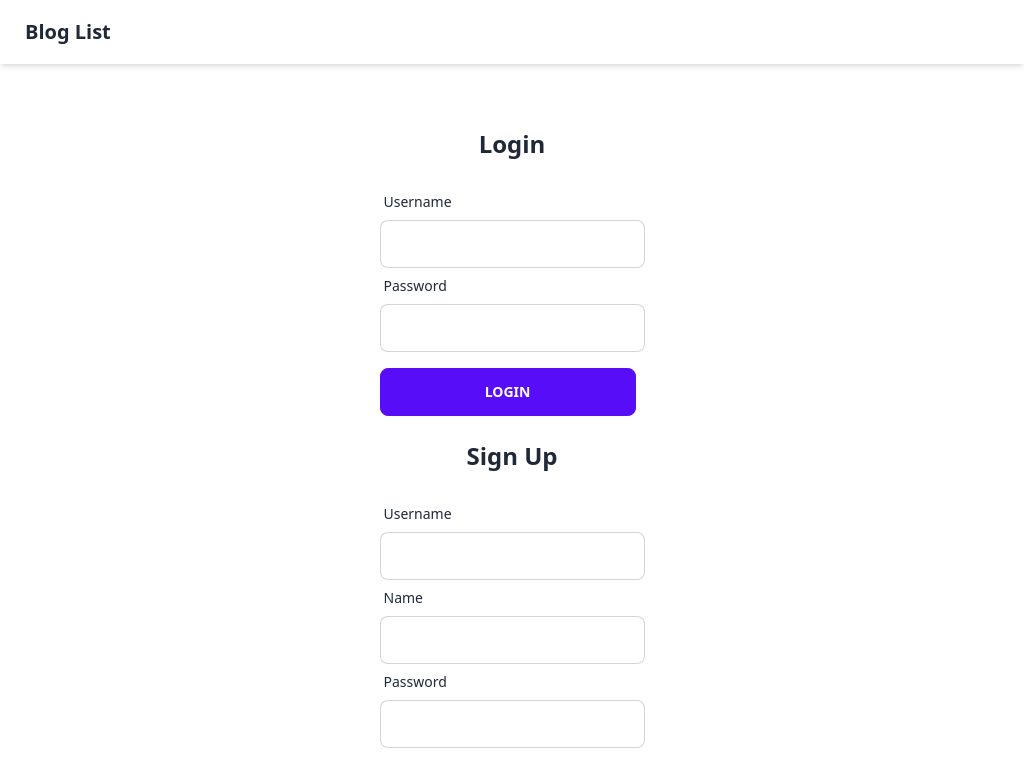
it: Blog app › fails with wrong credentials
This screenshot has width=1024, height=757.
Step 1. Type "happi892" into the field with id "username" → {"x": 513, "y": 244}, box [380, 220, 645, 268]
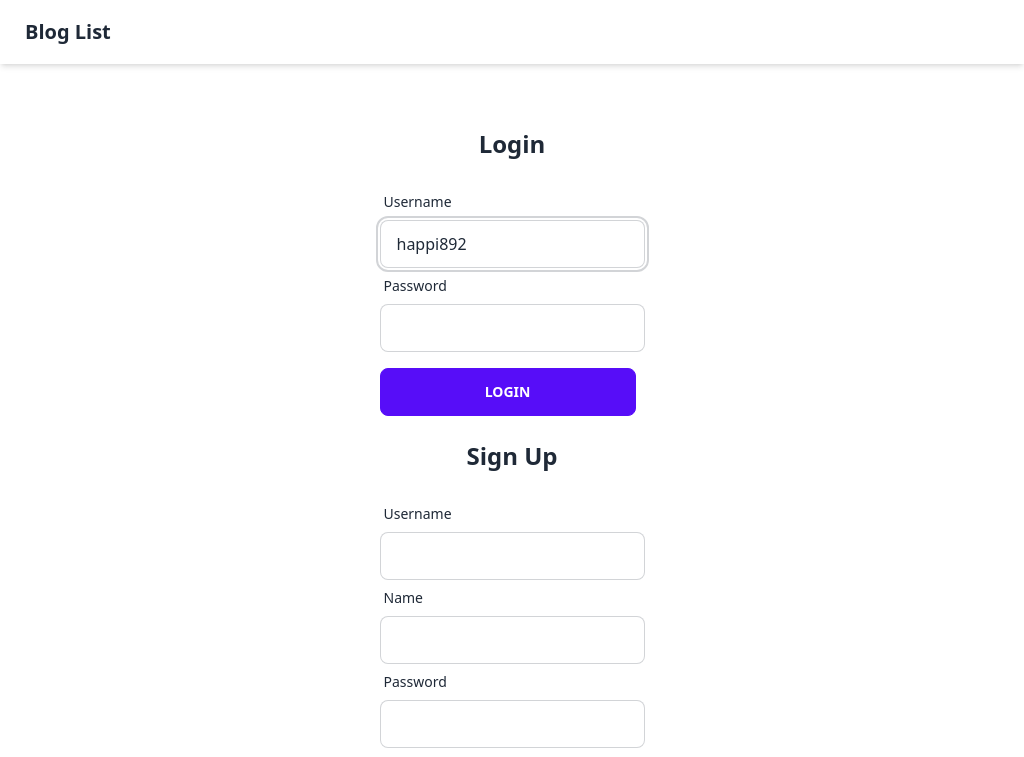
Step 2. Type "password" into the 1st password field → {"x": 513, "y": 328}, box [380, 304, 645, 352]
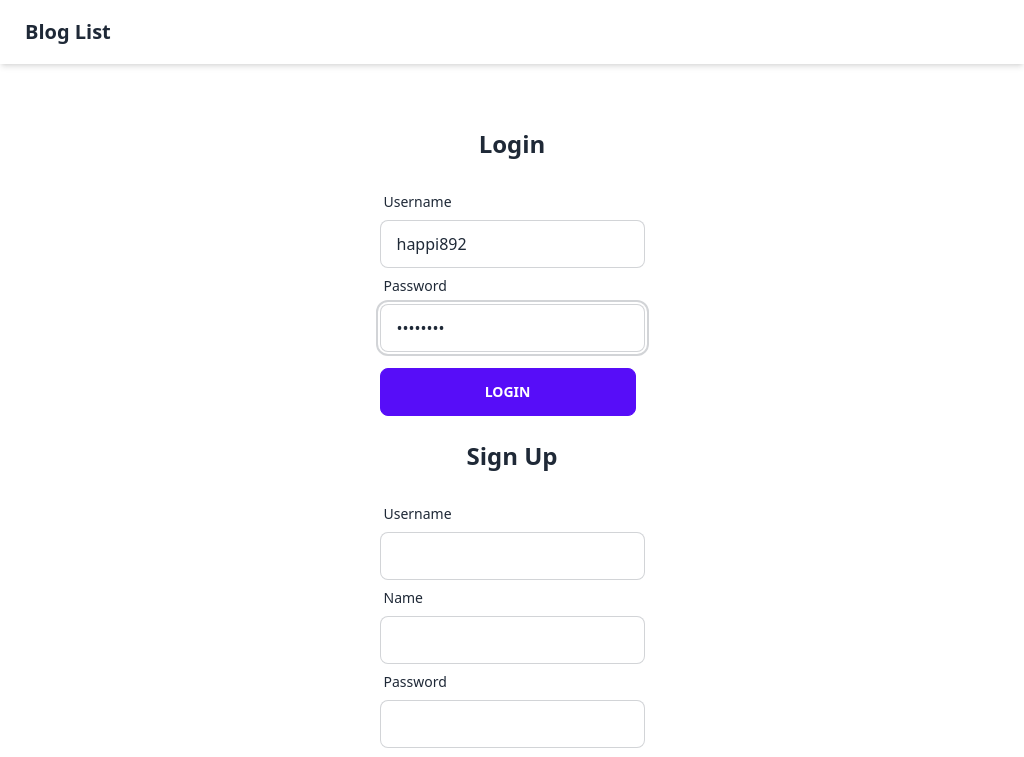
Step 3. Click the 1st button "login" → {"x": 508, "y": 392}, box [380, 368, 636, 416]
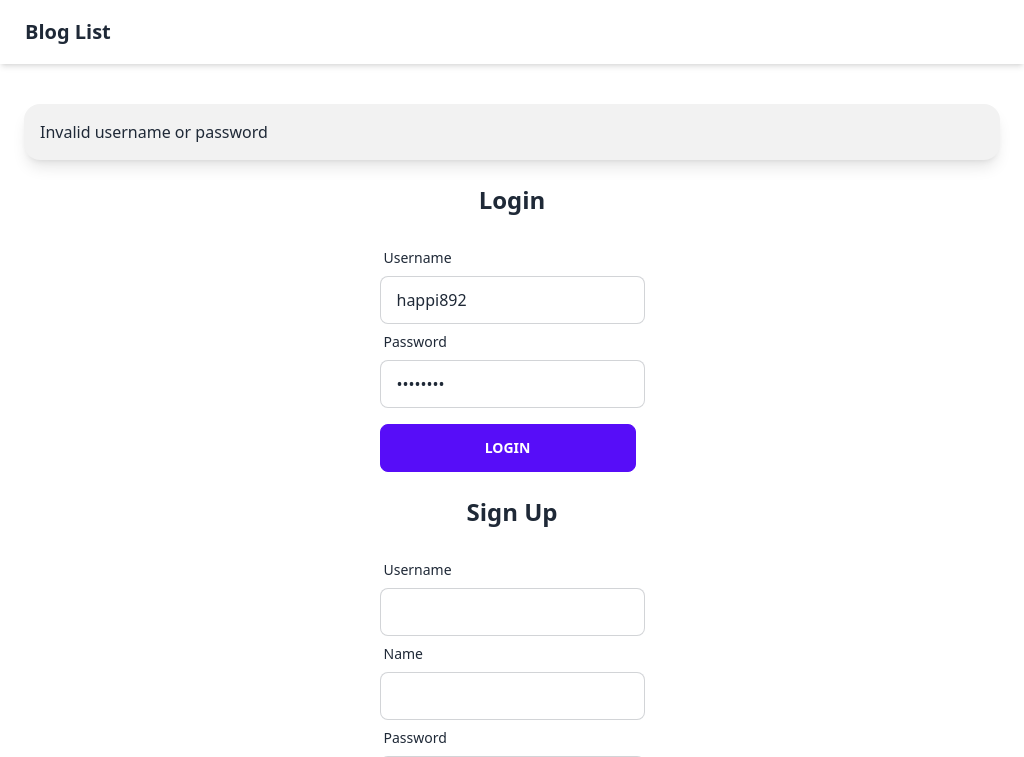
Check: the heading "Invalid username or password" is shown, box [40, 120, 268, 144]
